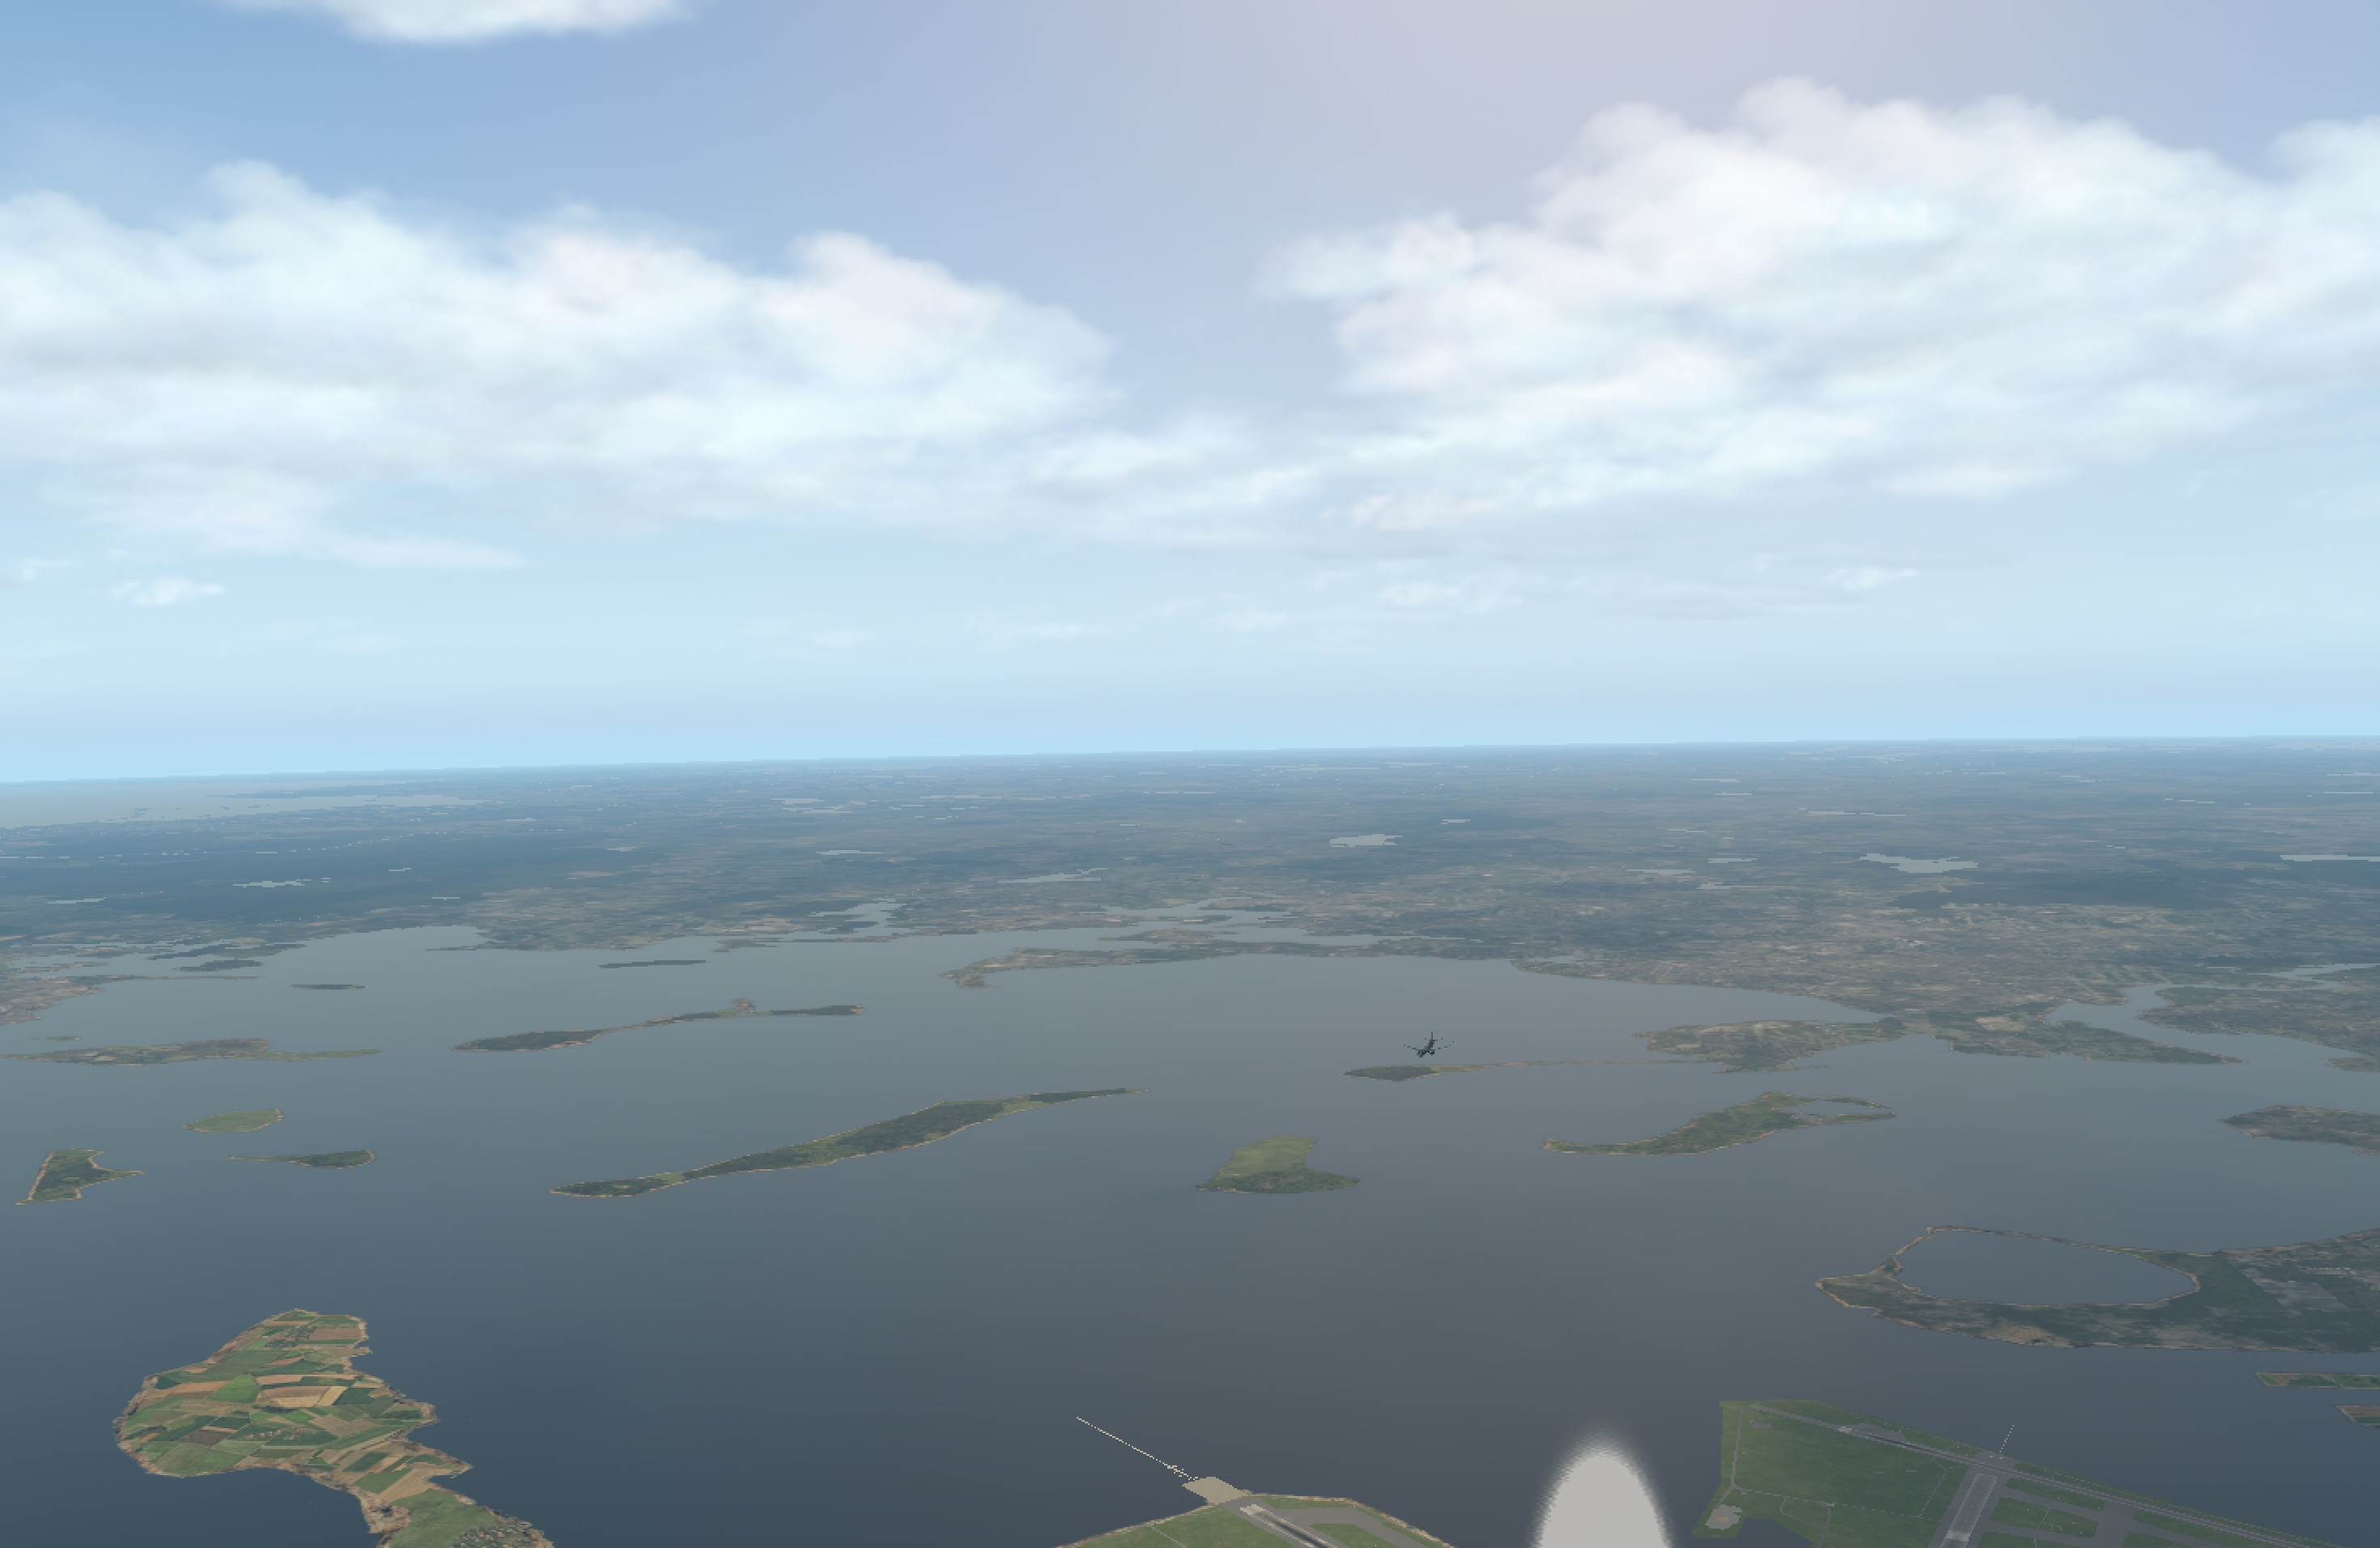aircraft: (1398, 1040, 1455, 1062)
